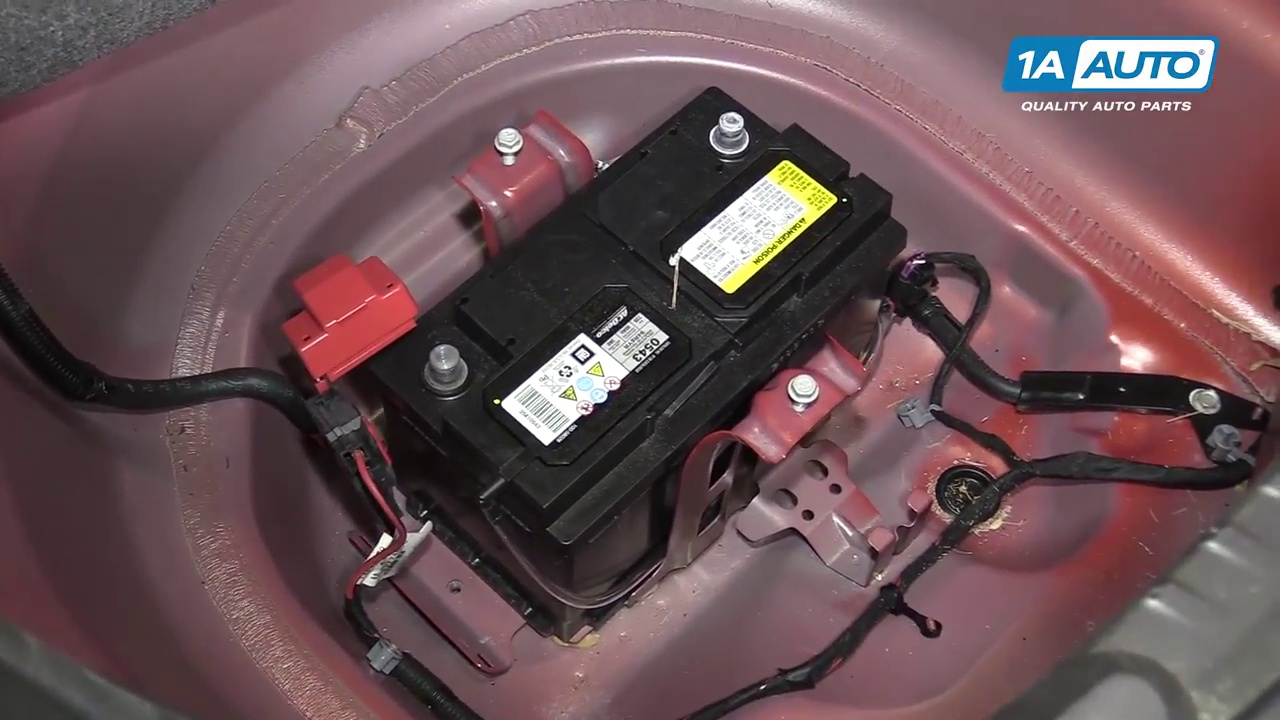battery: (355, 84, 890, 526)
neg_disconnected: (671, 93, 776, 178)
pos_disconnected: (256, 246, 484, 420)
